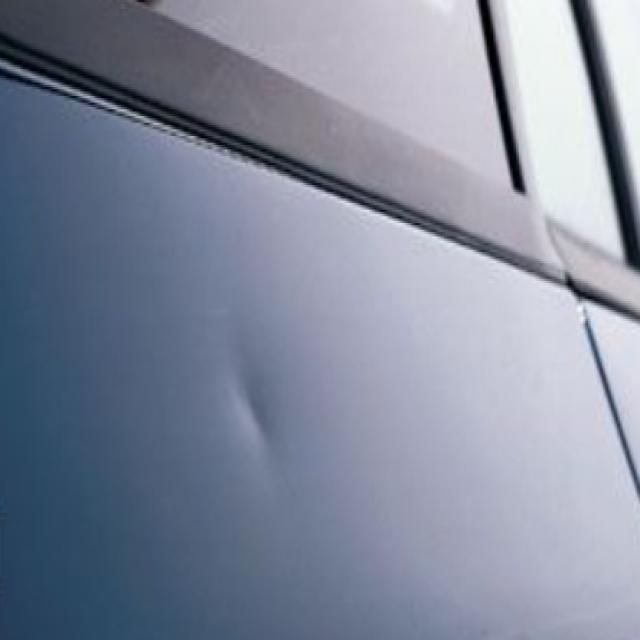dents: (218, 324, 318, 510)
